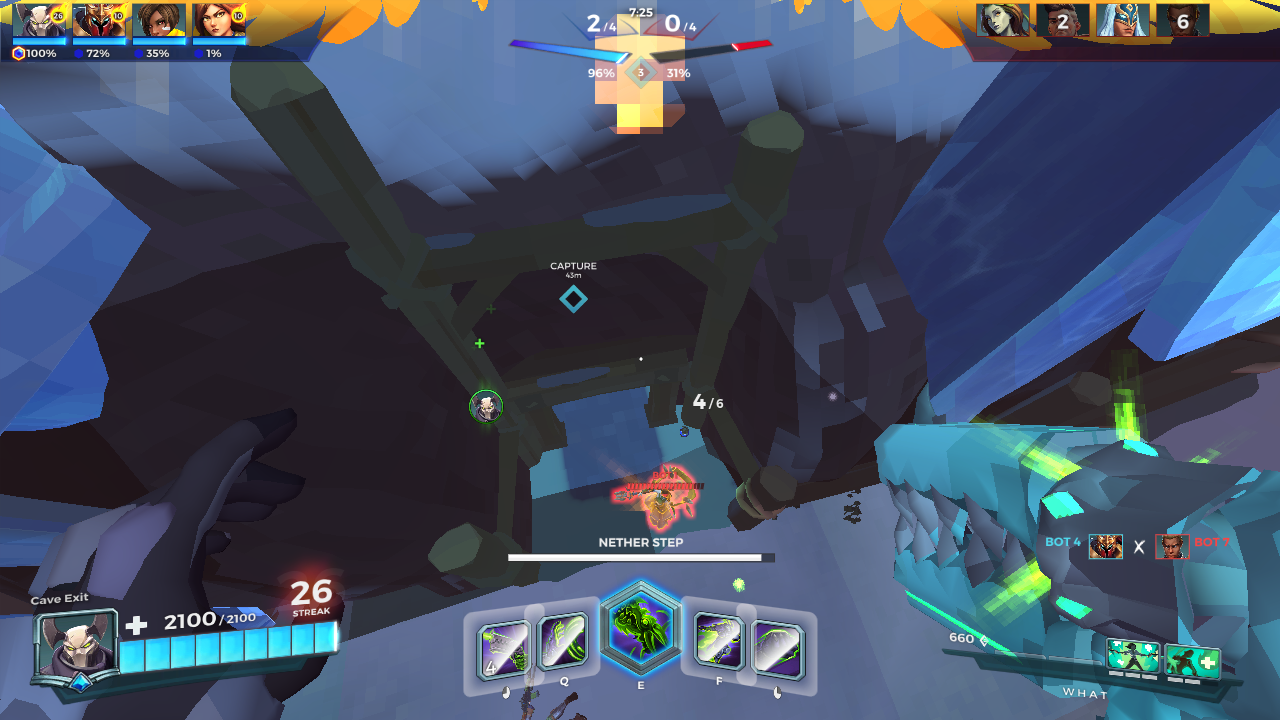model: (626, 472, 680, 526)
